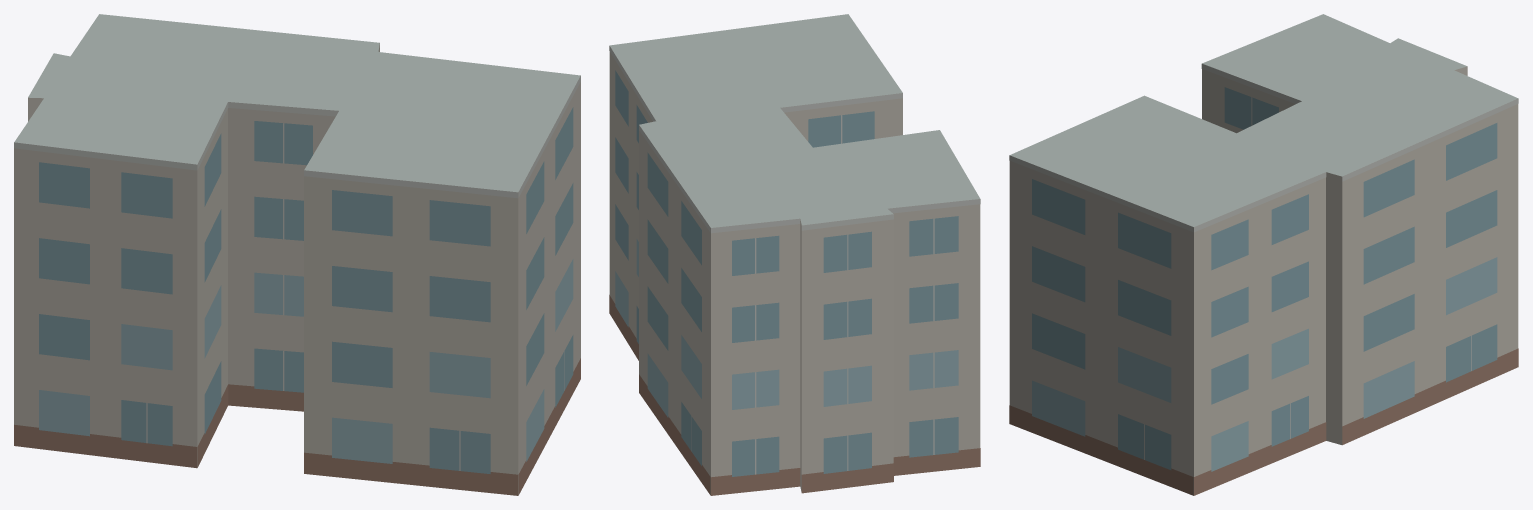
File: survey-upis-32901730.glb
The picture shows the model from 3 angles, left to right: view 1: azimuth 30°, elevation 25°; view 2: azimuth 150°, elevation 25°; view 3: azimuth 270°, elevation 25°; orthographic projection. The views are drawn at different scales.
Visible parts, largest first — view 1: survey-upis-32901730.tmp; view 2: survey-upis-32901730.tmp; view 3: survey-upis-32901730.tmp.
Boxes of the visible parts, box(x1,y1,x2,y2) form: survey-upis-32901730.tmp: box(14, 14, 580, 495); survey-upis-32901730.tmp: box(609, 14, 980, 495); survey-upis-32901730.tmp: box(1009, 14, 1518, 495).
Bounding box in the file's own units: 21.11 × 12.4 × 21.29.
